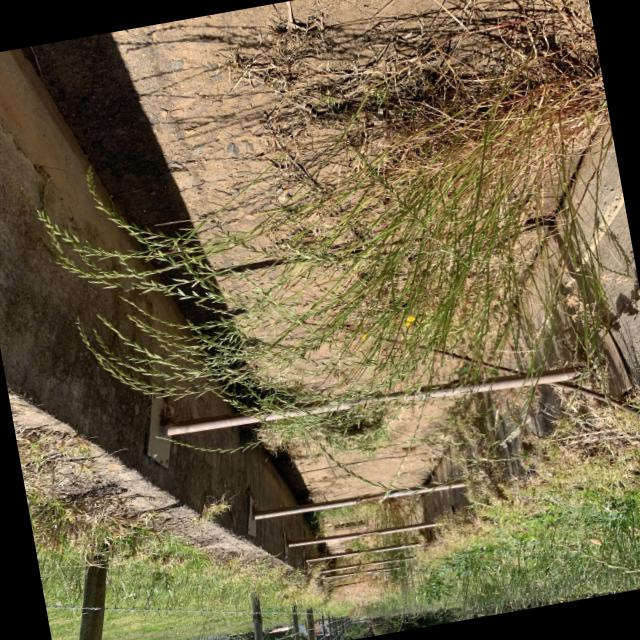Lolium: (15, 24, 640, 546)
